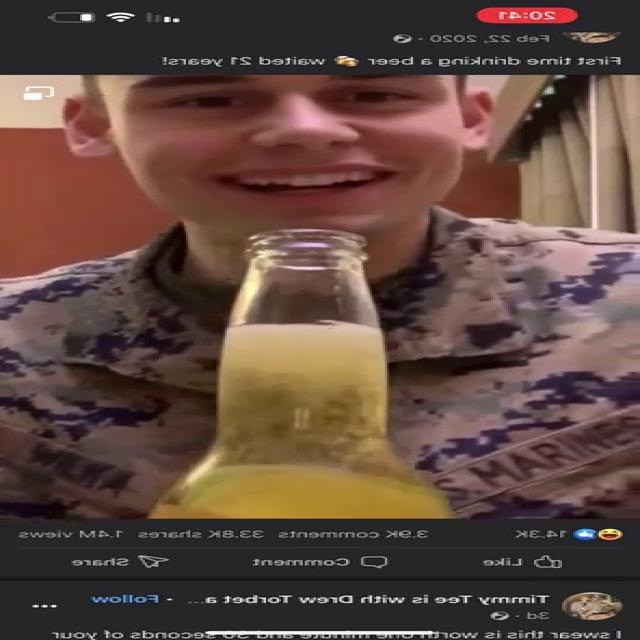Bottle: (148, 235, 453, 518)
Mouth: (204, 156, 404, 202)
